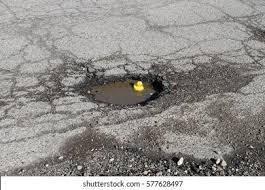alligator-crack: (69, 9, 261, 69), (1, 41, 74, 131)
pothole: (173, 71, 257, 114), (76, 70, 167, 109)
